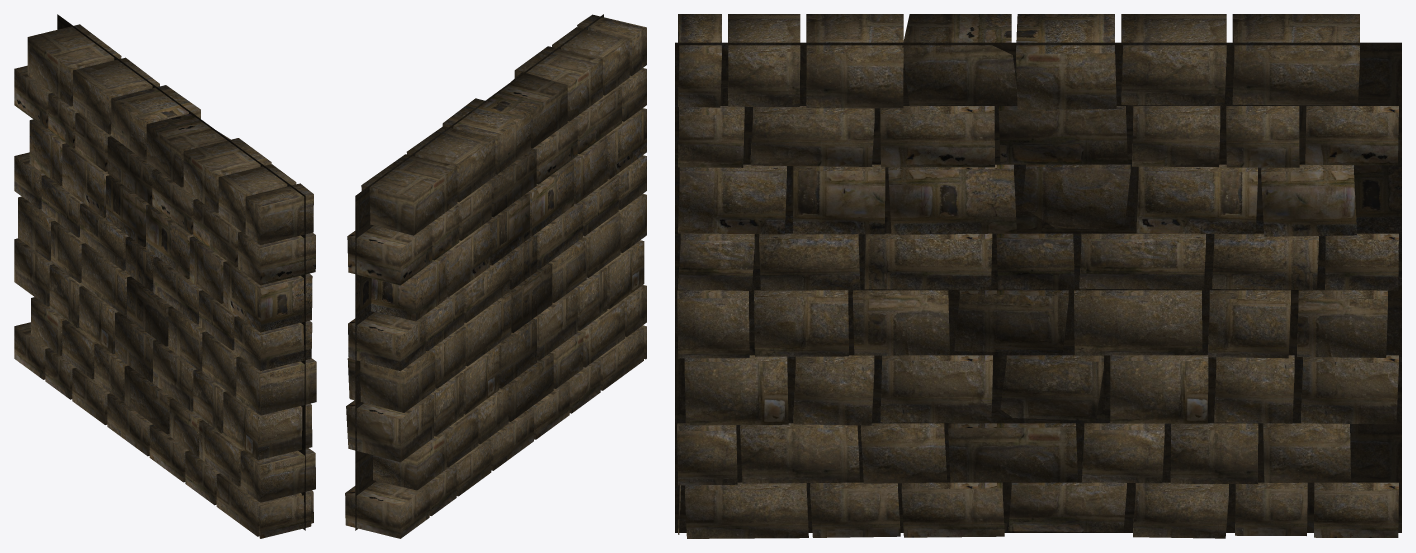
File: hollow_wall.glb
The picture shows the model from 3 angles, left to right: view 1: azimuth 30°, elevation 25°; view 2: azimuth 150°, elevation 25°; view 3: azimuth 270°, elevation 25°; orthographic projection. The views are drawn at different scales.
Parts seen in each view (by area): view 1: hollow_wall; view 2: hollow_wall; view 3: hollow_wall.
Part boxes in pixels (box(x1,y1,x2,y2)): hollow_wall: box(14, 14, 316, 538); hollow_wall: box(345, 14, 646, 538); hollow_wall: box(675, 14, 1401, 538).
Bounding box in the file's own units: 0.5792 × 3.2 × 4.3.
Materials: 1 (1 with a texture image).
